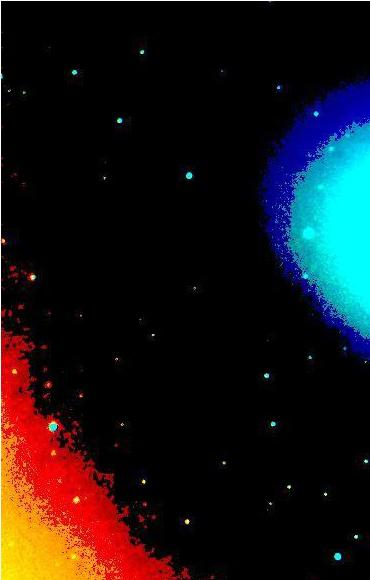star: (297, 72, 327, 102)
